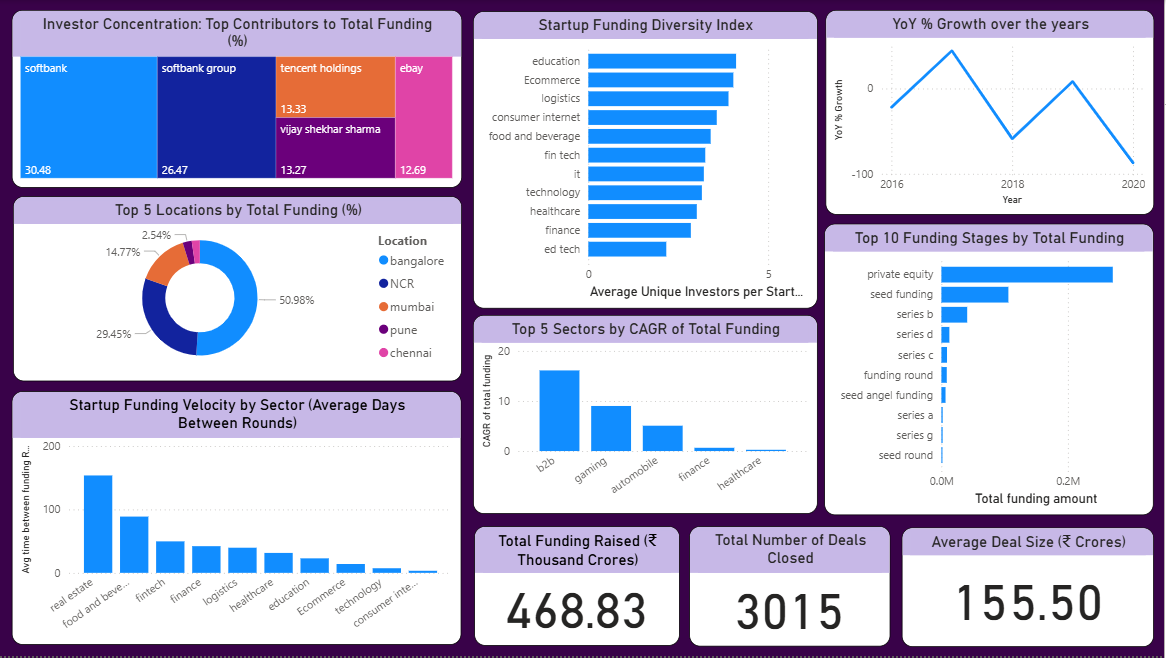

The dashboard page shown, as its layout file describes it:
{"tool":"powerbi","page":{"name":"Page 1","canvas":[1280,720],"ordinal":0},"visuals":[{"type":"card","title":"Total Funding Raised (₹ Thousand Crores)","fields":{"Values":["Query1.total_funding_amt(in Kcr)"]},"box":[522.2,577.8,225.6,131.1],"z":0},{"type":"card","title":"Total Number of Deals Closed","fields":{"Values":["Query2.number_of_deals"]},"box":[758.9,577.8,221.1,132.2],"z":1000},{"type":"card","title":"Average Deal Size (₹ Crores)","fields":{"Values":["Query3.avg_deal_size"]},"box":[992.2,578.9,276.7,131.1],"z":2000},{"type":"lineChart","title":"YoY % Growth over the years","fields":{"Category":["Query4.year"],"Y":["Query4.YoY%"]},"box":[908,11,361,225],"z":3000},{"type":"clusteredBarChart","title":"Top 10 Funding Stages by Total Funding","fields":{"Category":["Query5.investment_type"],"Y":["Query5.total_funding"]},"box":[906.9,245,361.2,320],"z":4000},{"type":"columnChart","title":"Top 5 Sectors by CAGR of Total Funding","fields":{"Category":["Query6.industry_vertical"],"Y":["Query6.CAGR"]},"box":[521.9,346.2,378.1,218.8],"z":5000},{"type":"donutChart","title":"Top 5 Locations by Total Funding (%)","fields":{"Category":["Query7.city_location"],"Y":["Query7.total_funding"]},"box":[16,216,493,203],"z":6000},{"type":"treemap","title":"Investor Concentration: Top Contributors to Total Funding (%)","fields":{"Group":["Query8.investors_name"],"Values":["Query8.inv_conc_index"],"Details":["Query8.inv_conc_index"]},"box":[15,11,494,195],"z":7000},{"type":"clusteredColumnChart","title":"Startup Funding Velocity by Sector (Average Days Between Rounds)","fields":{"Category":["Query9.industry_vertical"],"Y":["Query9.avg_days_btw"]},"box":[15,430,493.8,278.8],"z":8000},{"type":"clusteredBarChart","title":"Startup Funding Diversity Index","fields":{"Category":["Query10.industry_vertical"],"Y":["Query10.avg_uniq_inv_per_startup"]},"box":[522,12,378,326],"z":9000}]}

Visuals, with their boxes in screenshot pixels (x1, y1, x2, y2), scaled from the page's 1280x720 canvas onto the 1166x658 screenshot:
"Total Funding Raised (₹ Thousand Crores)" card: x1=476 y1=528 x2=681 y2=648
"Total Number of Deals Closed" card: x1=691 y1=528 x2=893 y2=649
"Average Deal Size (₹ Crores)" card: x1=904 y1=529 x2=1156 y2=649
"YoY % Growth over the years" lineChart: x1=827 y1=10 x2=1156 y2=216
"Top 10 Funding Stages by Total Funding" clusteredBarChart: x1=826 y1=224 x2=1155 y2=516
"Top 5 Sectors by CAGR of Total Funding" columnChart: x1=475 y1=316 x2=820 y2=516
"Top 5 Locations by Total Funding (%)" donutChart: x1=15 y1=197 x2=464 y2=383
"Investor Concentration: Top Contributors to Total Funding (%)" treemap: x1=14 y1=10 x2=464 y2=188
"Startup Funding Velocity by Sector (Average Days Between Rounds)" clusteredColumnChart: x1=14 y1=393 x2=463 y2=648
"Startup Funding Diversity Index" clusteredBarChart: x1=476 y1=11 x2=820 y2=309
